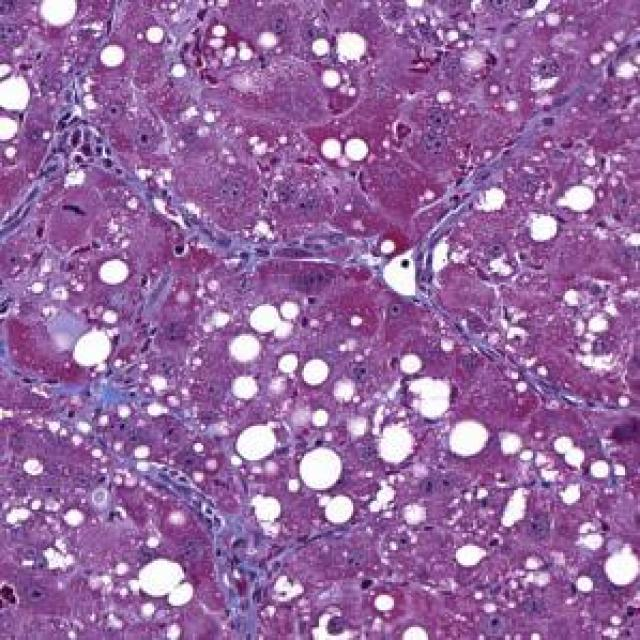fibrosis: (32, 107, 131, 184)
